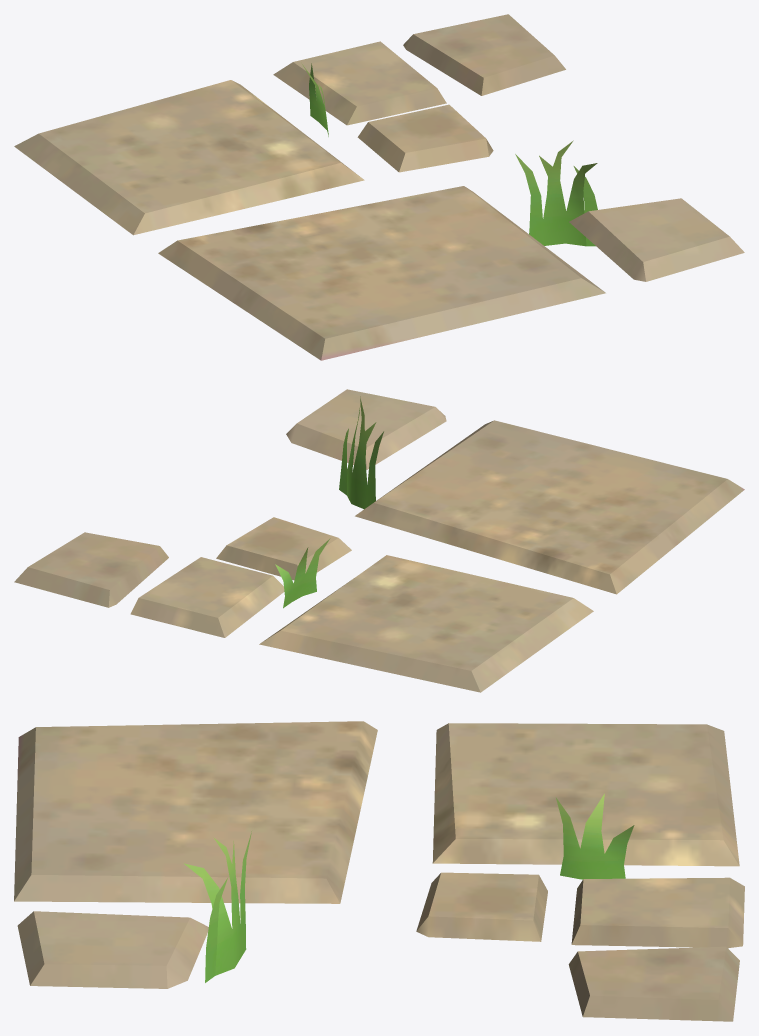
The model's file is Misc_StonePath2.fbx.
3 renders of one model, top to bottom at view 1: azimuth 30°, elevation 25°; view 2: azimuth 150°, elevation 25°; view 3: azimuth 270°, elevation 25°, orthographic. The views are drawn at different scales.
Parts seen in each view (by area): view 1: stonepath2; view 2: stonepath2; view 3: stonepath2.
Part boxes in pixels (<box>): stonepath2: <box>14,14,744,360</box>; stonepath2: <box>14,389,744,692</box>; stonepath2: <box>14,721,744,1021</box>.
Bounding box in the file's own units: 2.22 × 0.4645 × 2.35.
